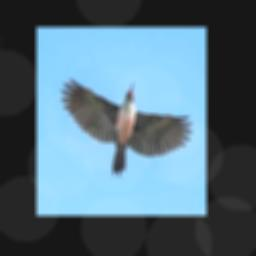Woodpecker: (61, 78, 192, 176)
